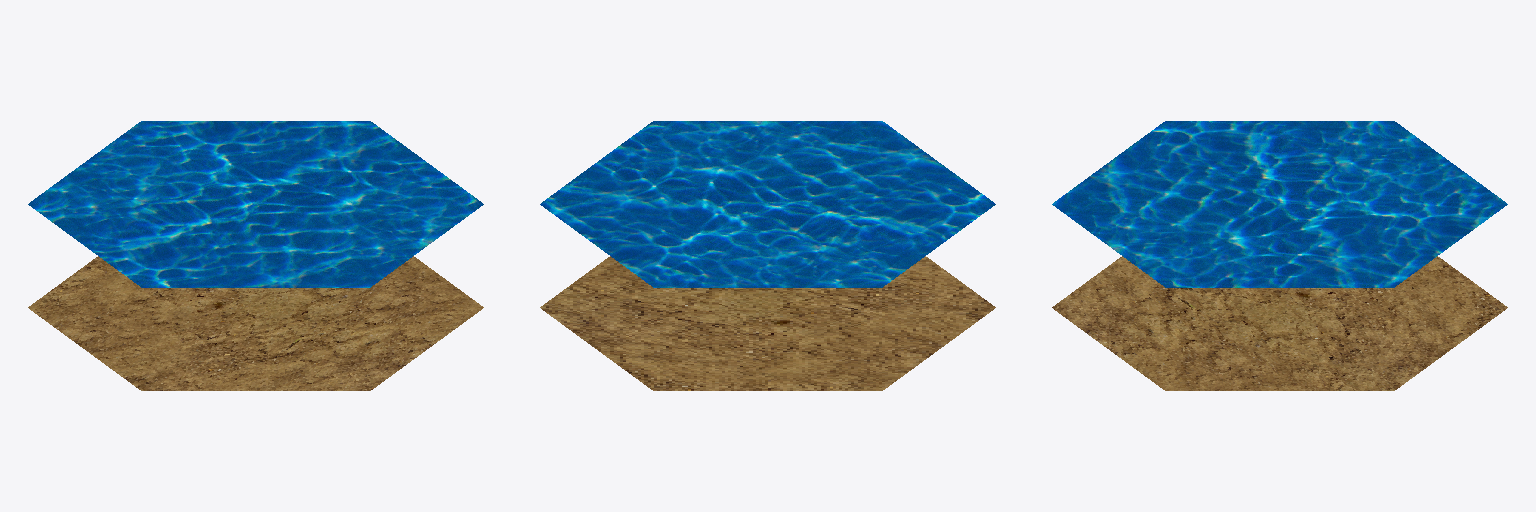
3 views of the same model, side by side, from view 1: azimuth 30°, elevation 25°; view 2: azimuth 150°, elevation 25°; view 3: azimuth 270°, elevation 25° (orthographic).
Parts seen in each view (by area): view 1: Cylinder_Cylinder.001; view 2: Cylinder_Cylinder.001; view 3: Cylinder_Cylinder.001.
Boxes of the visible parts, x1=… form: Cylinder_Cylinder.001: x1=28, y1=121, x2=483, y2=390; Cylinder_Cylinder.001: x1=540, y1=121, x2=995, y2=390; Cylinder_Cylinder.001: x1=1052, y1=121, x2=1507, y2=390.
Bounding box in the file's own units: 1.73 × 0.5 × 2.
Materials: 2 (2 with a texture image).